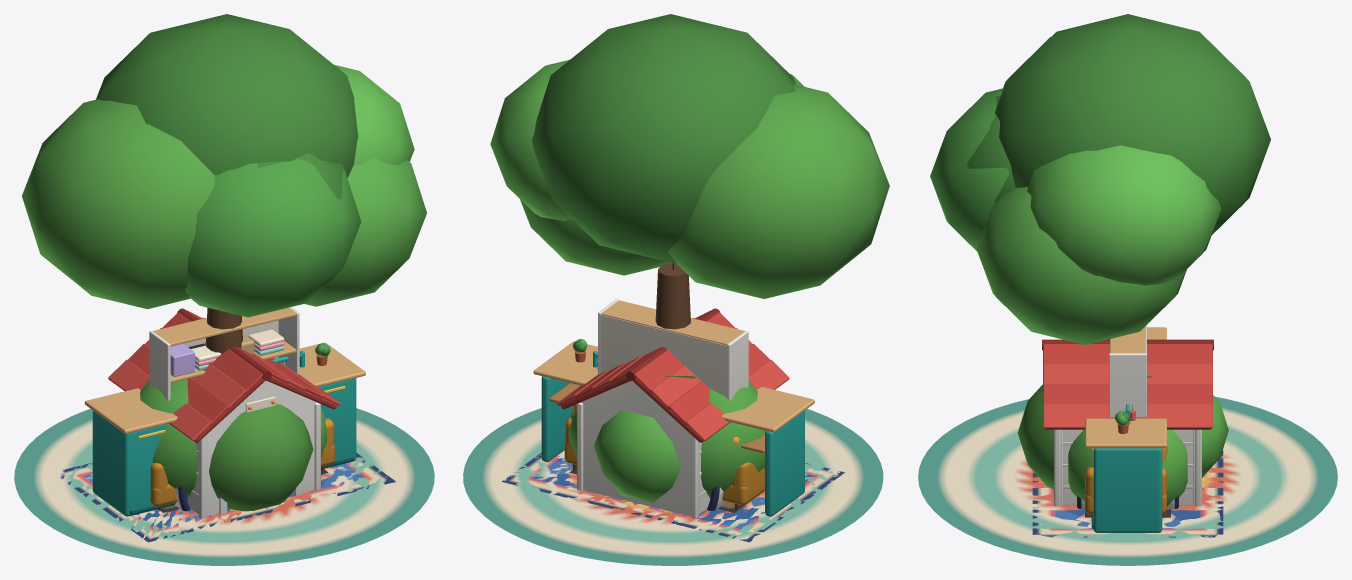
The model's file is props.glb.
The picture shows the model from 3 angles, left to right: view 1: azimuth 30°, elevation 25°; view 2: azimuth 150°, elevation 25°; view 3: azimuth 270°, elevation 25°; orthographic projection.
Parts seen in each view (by area): view 1: prop_tree|leaf, prop_rugRound|fabric, prop_bush|leaf, prop_dogHouse|paint, prop_receptionDesk|paint, prop_receptionDesk|wood, prop_rugRect|fabric, prop_dogHouse|tint, prop_shelfUnit|paint, prop_shelfUnit|wood, prop_sofa|fabric, prop_tree|matte (+1 smaller); view 2: prop_tree|leaf, prop_rugRound|fabric, prop_bush|leaf, prop_dogHouse|paint, prop_shelfUnit|paint, prop_dogHouse|tint, prop_receptionDesk|paint, prop_rugRect|fabric, prop_receptionDesk|wood, prop_shelfUnit|wood, prop_tree|matte, prop_sofa|fabric; view 3: prop_tree|leaf, prop_rugRound|fabric, prop_dogHouse|paint, prop_receptionDesk|paint, prop_bush|leaf, prop_rugRect|fabric, prop_receptionDesk|wood, prop_shelfUnit|paint, prop_dogHouse|tint, prop_shelfUnit|wood, prop_sofa|fabric.
Part boxes in pixels (x1,y1,x2,y2): prop_tree|leaf: [22, 14, 426, 317]; prop_rugRound|fabric: [14, 408, 434, 565]; prop_bush|leaf: [140, 379, 326, 511]; prop_dogHouse|paint: [108, 308, 340, 518]; prop_receptionDesk|paint: [92, 343, 356, 516]; prop_receptionDesk|wood: [84, 342, 365, 433]; prop_rugRect|fabric: [60, 453, 395, 542]; prop_dogHouse|tint: [187, 381, 316, 516]; prop_shelfUnit|paint: [149, 307, 299, 400]; prop_shelfUnit|wood: [153, 307, 296, 382]; prop_sofa|fabric: [150, 418, 334, 506]; prop_tree|matte: [206, 308, 241, 353]; prop_tree|leaf: [490, 14, 889, 298]; prop_rugRound|fabric: [463, 408, 883, 565]; prop_bush|leaf: [568, 380, 765, 502]; prop_dogHouse|paint: [557, 308, 789, 518]; prop_shelfUnit|paint: [598, 299, 748, 400]; prop_dogHouse|tint: [581, 381, 710, 516]; prop_receptionDesk|paint: [541, 376, 804, 516]; prop_rugRect|fabric: [501, 450, 844, 542]; prop_receptionDesk|wood: [533, 341, 814, 453]; prop_shelfUnit|wood: [601, 300, 744, 345]; prop_tree|matte: [656, 263, 690, 329]; prop_sofa|fabric: [564, 404, 764, 505]; prop_tree|leaf: [930, 14, 1270, 344]; prop_rugRound|fabric: [918, 396, 1337, 565]; prop_dogHouse|paint: [1042, 339, 1213, 506]; prop_receptionDesk|paint: [1091, 404, 1162, 532]; prop_bush|leaf: [1018, 384, 1228, 506]; prop_rugRect|fabric: [1032, 450, 1223, 537]; prop_receptionDesk|wood: [1085, 327, 1166, 448]; prop_shelfUnit|paint: [1109, 325, 1146, 416]; prop_dogHouse|tint: [1060, 429, 1195, 505]; prop_shelfUnit|wood: [1110, 326, 1145, 353]; prop_sofa|fabric: [1085, 441, 1167, 514].
Bounding box in the file's own units: 4.53 × 5.55 × 4.4.
